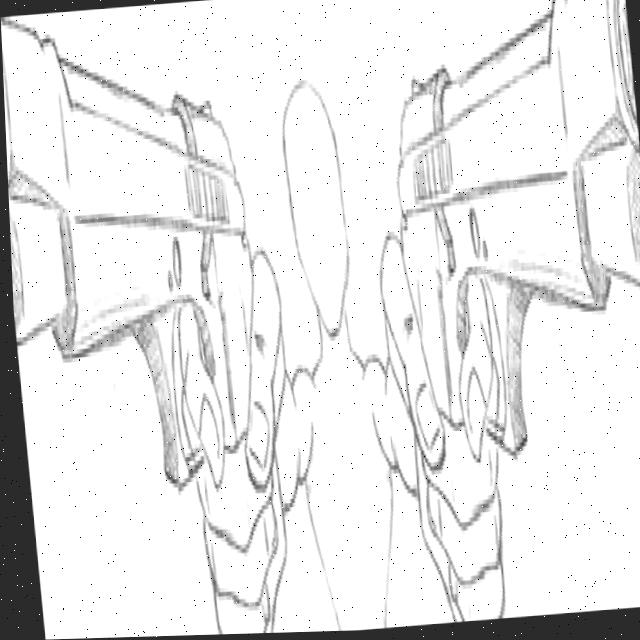pistol: (0, 0, 270, 506), (374, 0, 640, 469)
